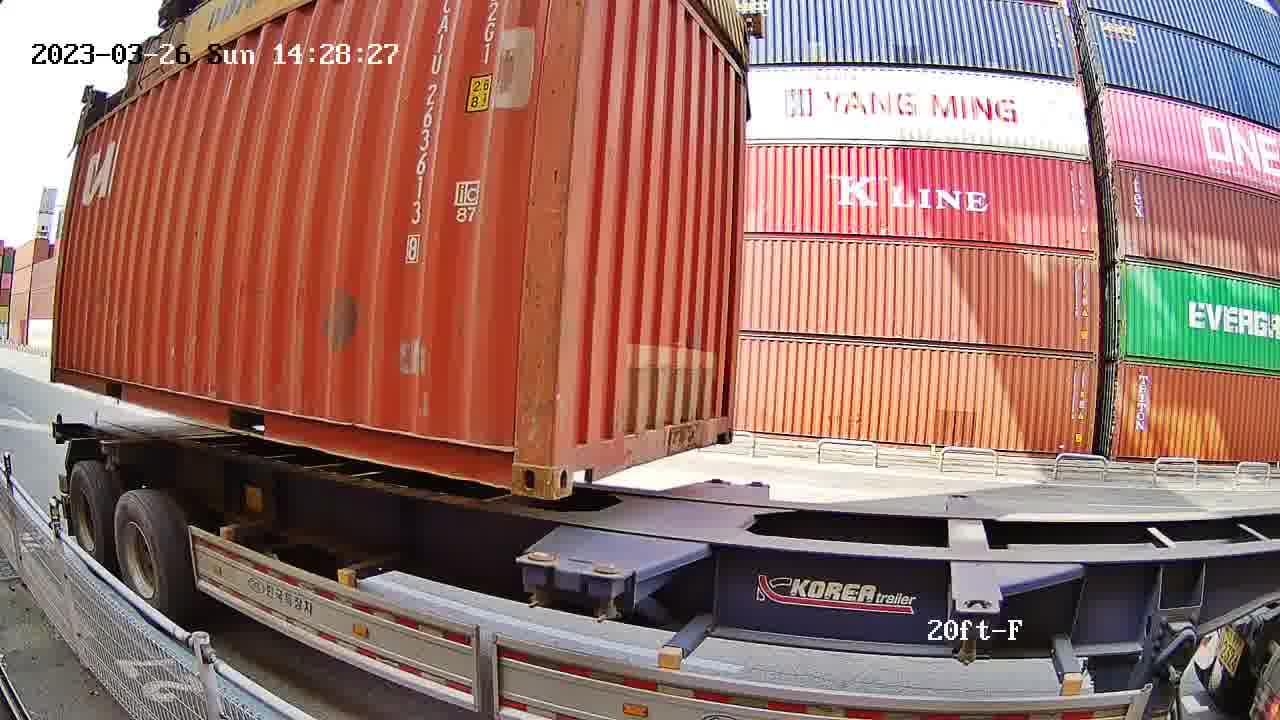Chassis: (588, 482, 769, 580), (522, 481, 727, 564)
Cone: (584, 563, 632, 621), (521, 552, 557, 609)
Hole_L: (550, 427, 602, 498)
Hole_R: (480, 427, 551, 499), (710, 406, 736, 448)
Tire: (114, 494, 174, 618), (70, 463, 108, 571)
